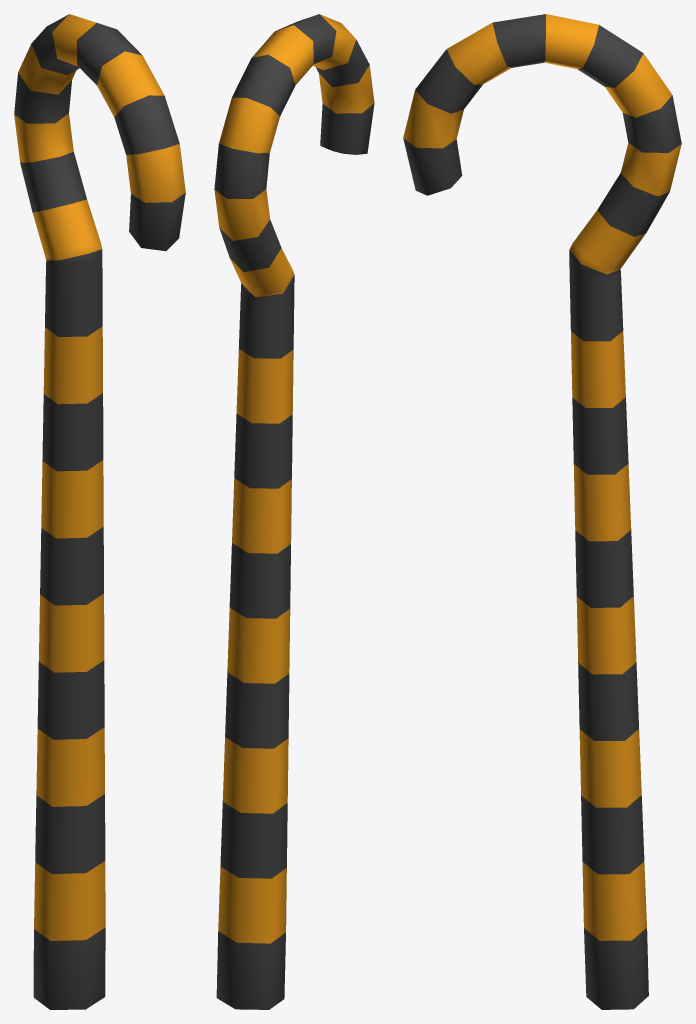
The model's file is crook.fbx.
The picture shows the model from 3 angles, left to right: view 1: azimuth 30°, elevation 25°; view 2: azimuth 150°, elevation 25°; view 3: azimuth 270°, elevation 25°; orthographic projection. The views are drawn at different scales.
Parts seen in each view (by area): view 1: crook; view 2: crook; view 3: crook.
Boxes of the visible parts, x1,y1,x2,y2 form: crook: (14, 14, 185, 1009); crook: (214, 14, 374, 1009); crook: (403, 14, 681, 1009).
Bounding box in the file's own units: 10.13 × 170 × 43.64.
